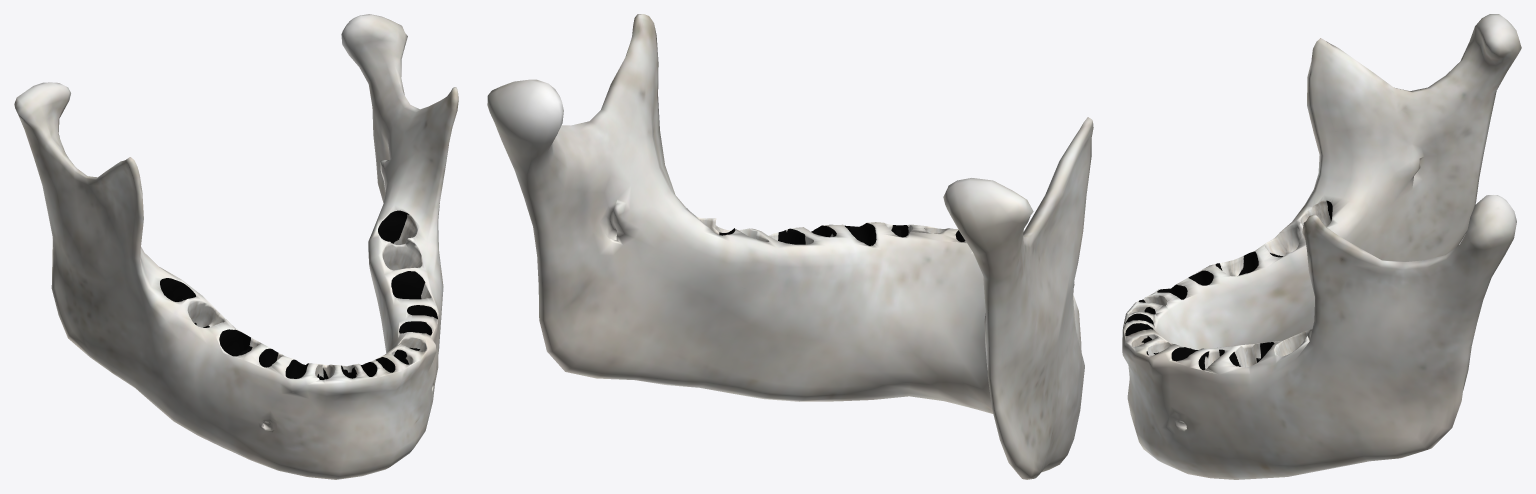
Rendered from blender_mandible_1.fbx.
The picture shows the model from 3 angles, left to right: view 1: azimuth 30°, elevation 25°; view 2: azimuth 150°, elevation 25°; view 3: azimuth 270°, elevation 25°; orthographic projection. The views are drawn at different scales.
Parts seen in each view (by area): view 1: mandible_Group1_Sketch_skull_lambert9_0; view 2: mandible_Group1_Sketch_skull_lambert9_0; view 3: mandible_Group1_Sketch_skull_lambert9_0.
Boxes of the visible parts, bbox=[...] form: mandible_Group1_Sketch_skull_lambert9_0: bbox=[14, 14, 458, 479]; mandible_Group1_Sketch_skull_lambert9_0: bbox=[487, 14, 1093, 479]; mandible_Group1_Sketch_skull_lambert9_0: bbox=[1122, 14, 1521, 479].
Size of the model in its own units: 993 by 769 by 819.
